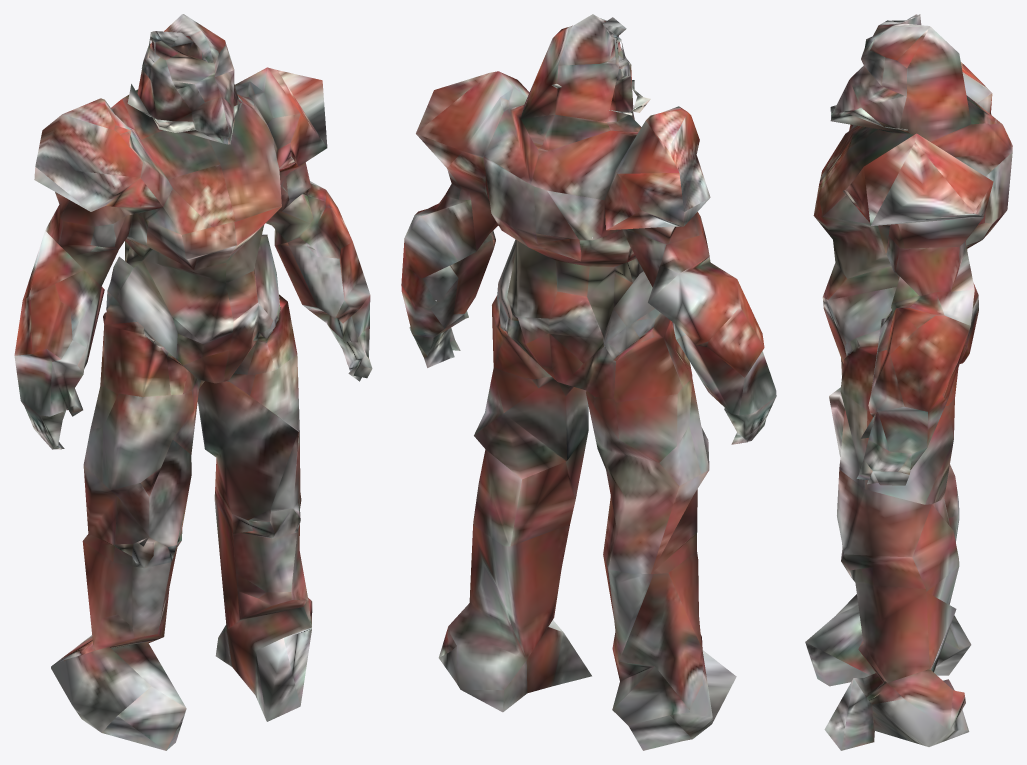
File: power-armor.lod.glb
The picture shows the model from 3 angles, left to right: view 1: azimuth 30°, elevation 25°; view 2: azimuth 150°, elevation 25°; view 3: azimuth 270°, elevation 25°; orthographic projection. The views are drawn at different scales.
Visible parts, largest first — view 1: tripo_node_b4ff156d-452b-4d33-b0f4-cc9230e0411d; view 2: tripo_node_b4ff156d-452b-4d33-b0f4-cc9230e0411d; view 3: tripo_node_b4ff156d-452b-4d33-b0f4-cc9230e0411d.
Part boxes in pixels (box(x1,y1,x2,y2)): tripo_node_b4ff156d-452b-4d33-b0f4-cc9230e0411d: box(14, 14, 372, 750); tripo_node_b4ff156d-452b-4d33-b0f4-cc9230e0411d: box(401, 14, 776, 750); tripo_node_b4ff156d-452b-4d33-b0f4-cc9230e0411d: box(805, 14, 1012, 750).
Size of the model in its own units: 0.5106 by 0.9764 by 0.267.
1 material, 1 textured.
